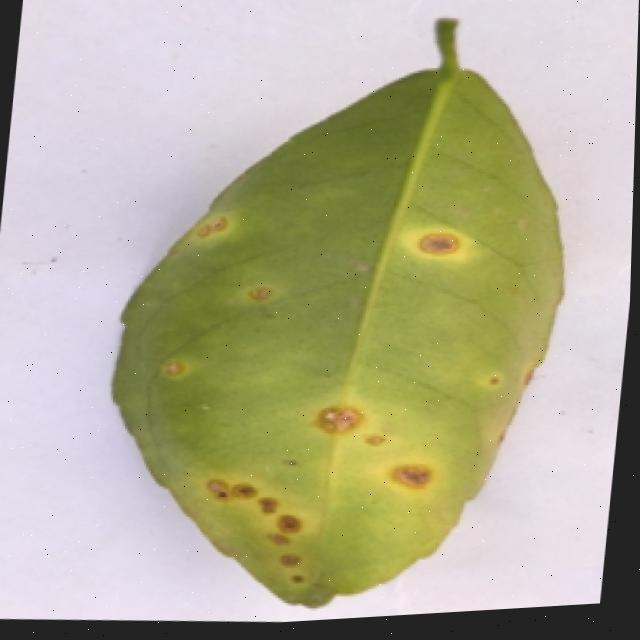canker: (113, 22, 562, 604), (181, 448, 328, 602), (287, 374, 440, 505), (386, 194, 487, 278), (170, 200, 242, 251), (138, 347, 201, 389), (238, 270, 276, 316)
